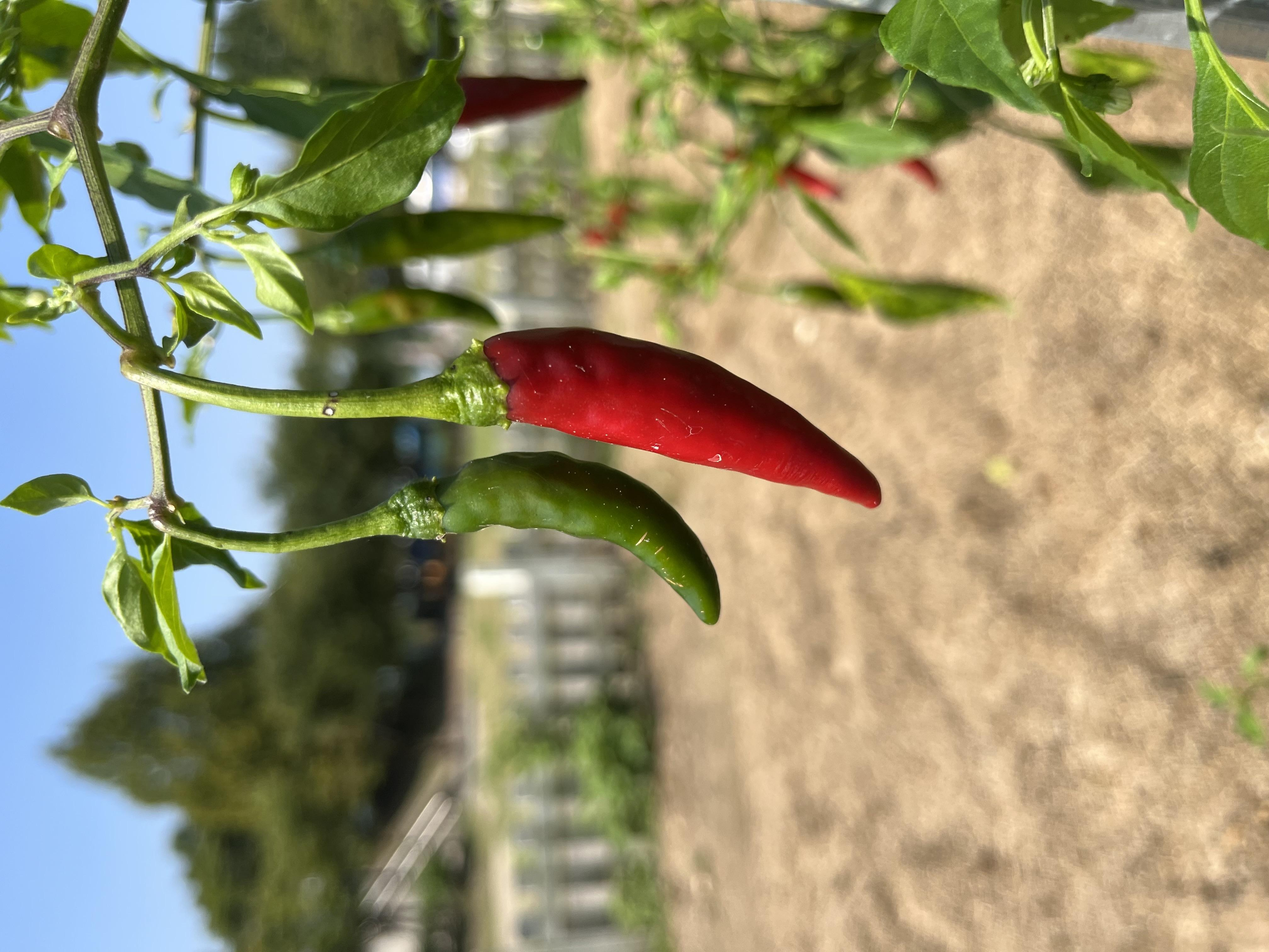Buah Cabai Sehat: (565, 334, 897, 670), (424, 258, 673, 555)
